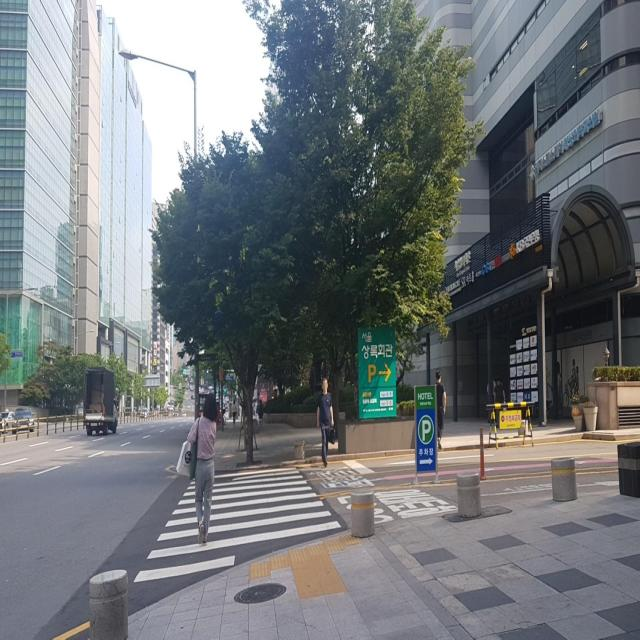횡단보도: (133, 467, 342, 583)
